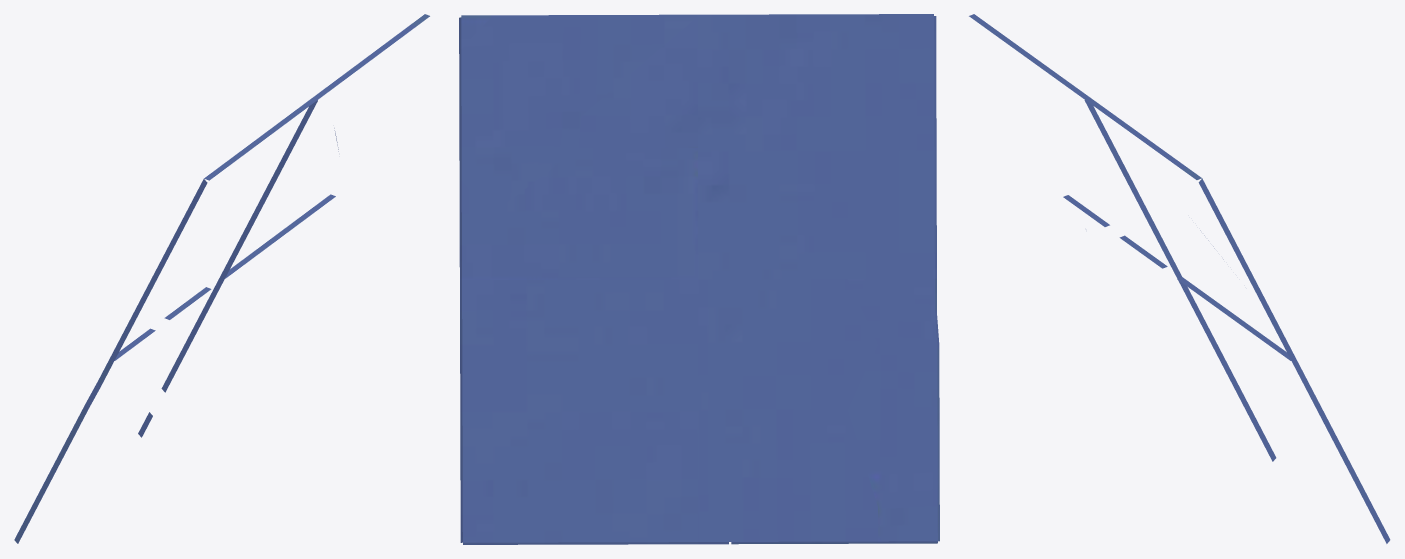
3 renders of one model, left to right at view 1: azimuth 30°, elevation 25°; view 2: azimuth 150°, elevation 25°; view 3: azimuth 270°, elevation 25°, orthographic. The views are drawn at different scales.
Bounding box in the file's own units: 39561 × 35624 × 33038.
Materials: 1 (1 with a texture image).
